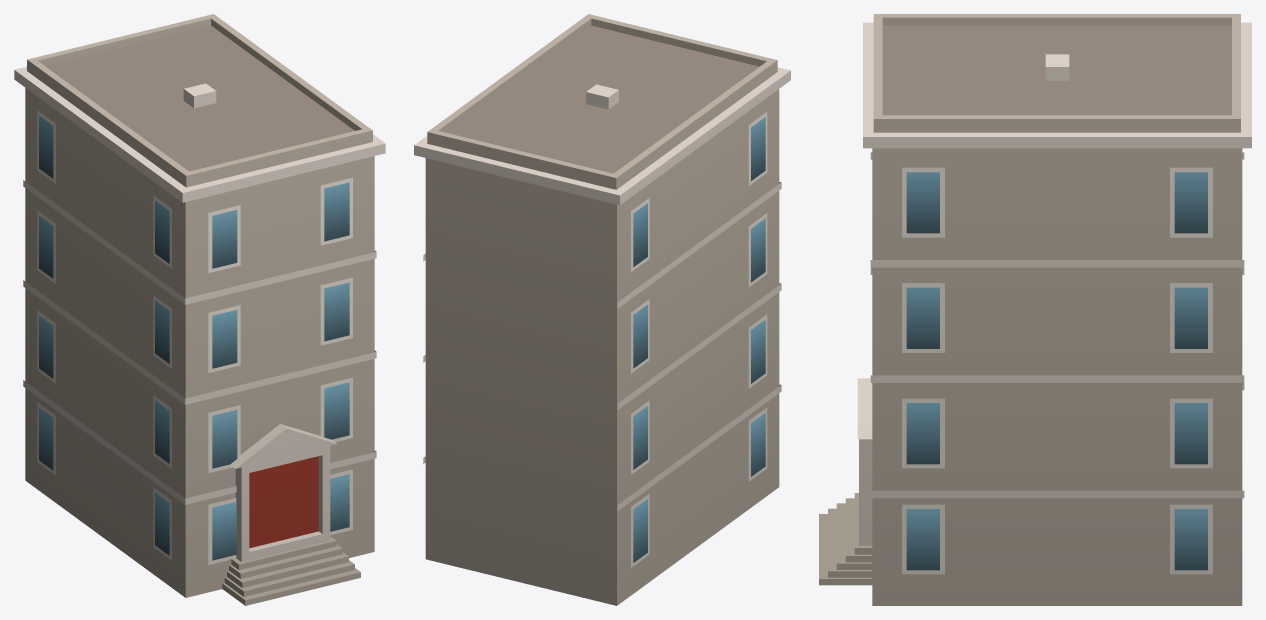
The model's file is tremont_e4_far.glb.
3 renders of one model, left to right at view 1: azimuth 30°, elevation 25°; view 2: azimuth 150°, elevation 25°; view 3: azimuth 270°, elevation 25°, orthographic. The views are drawn at different scales.
Visible parts, largest first — view 1: tremont_e4_far; view 2: tremont_e4_far; view 3: tremont_e4_far.
Part boxes in pixels (x1=…): tremont_e4_far: x1=14, y1=14, x2=385, y2=605; tremont_e4_far: x1=414, y1=14, x2=790, y2=605; tremont_e4_far: x1=819, y1=14, x2=1251, y2=605.
Size of the model in its own units: 9.14 by 18.34 by 14.62.
1 material, 1 textured.
